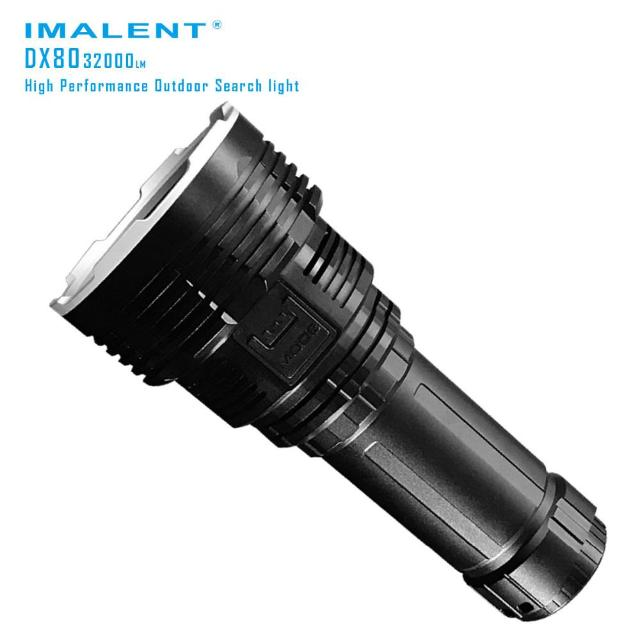Flashlight: (44, 96, 614, 628)
